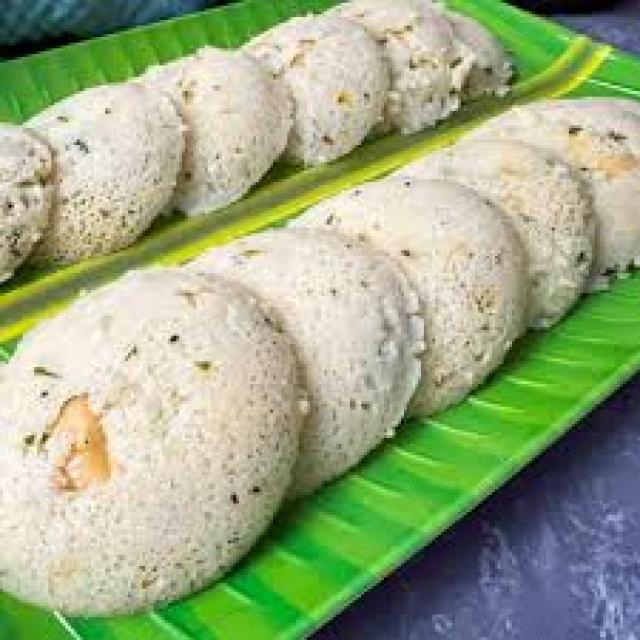IDLI: (0, 267, 307, 612), (185, 228, 418, 495), (290, 176, 523, 412), (404, 139, 594, 324), (466, 100, 637, 270), (28, 82, 182, 262), (142, 48, 290, 213), (245, 9, 387, 162), (341, 0, 472, 131), (0, 122, 54, 279)
